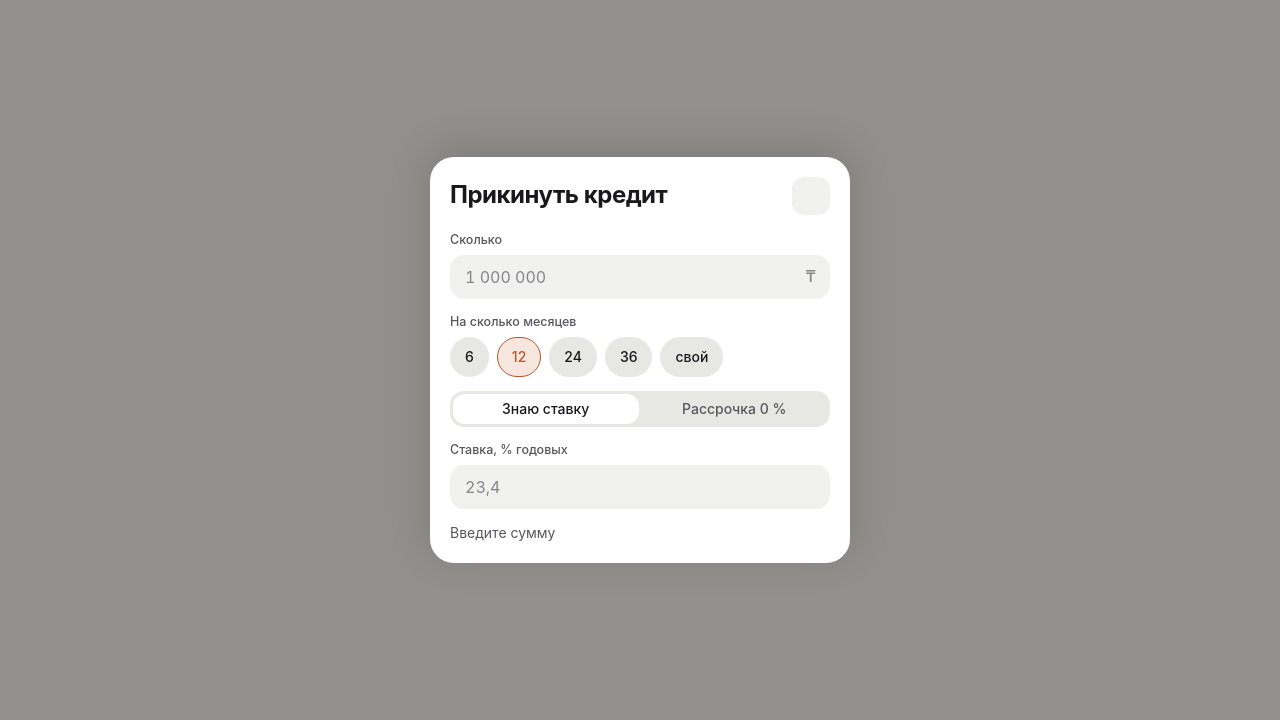
Test: PN-17: «Прикинуть кредит» › пустые поля — подсказка, результата нет
Type "1000000" into the field labelled "Сколько ₸" at (640, 277), box [450,255,830,299]
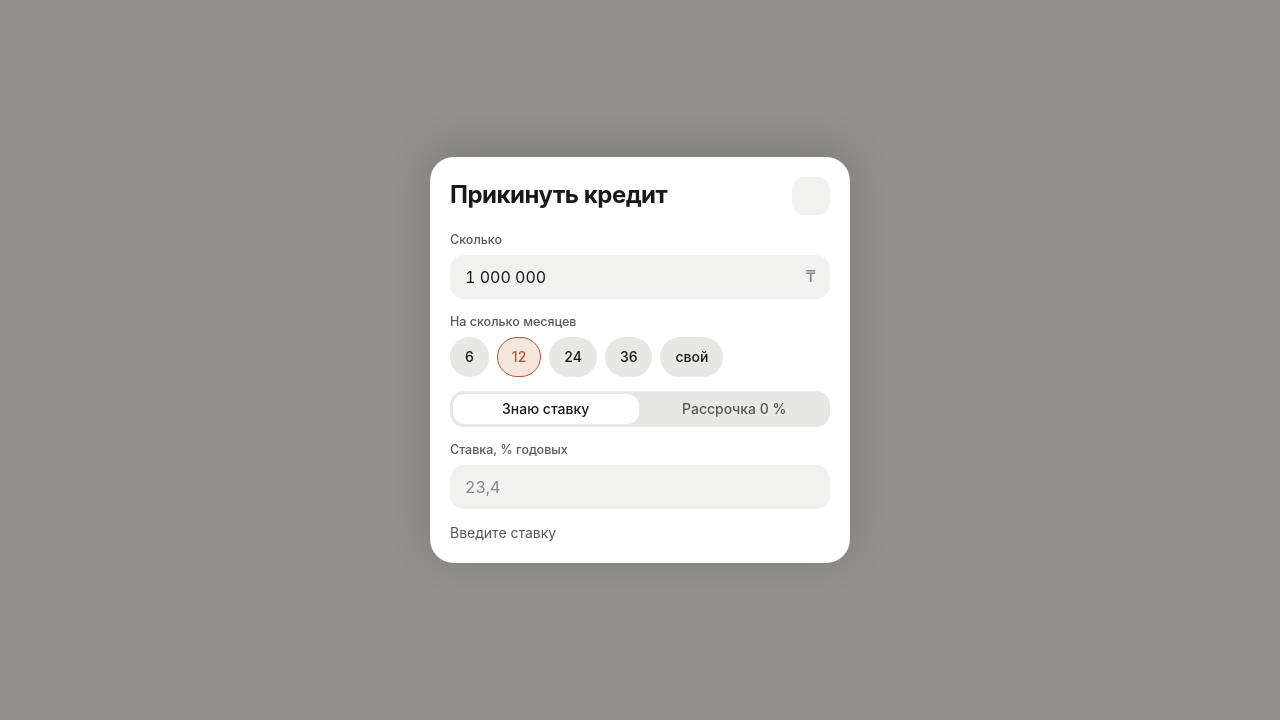
Result: the text "Введите ставку" is shown at [450,524,556,541]
Click the button "свой" at (692, 357), box [660,337,723,377]
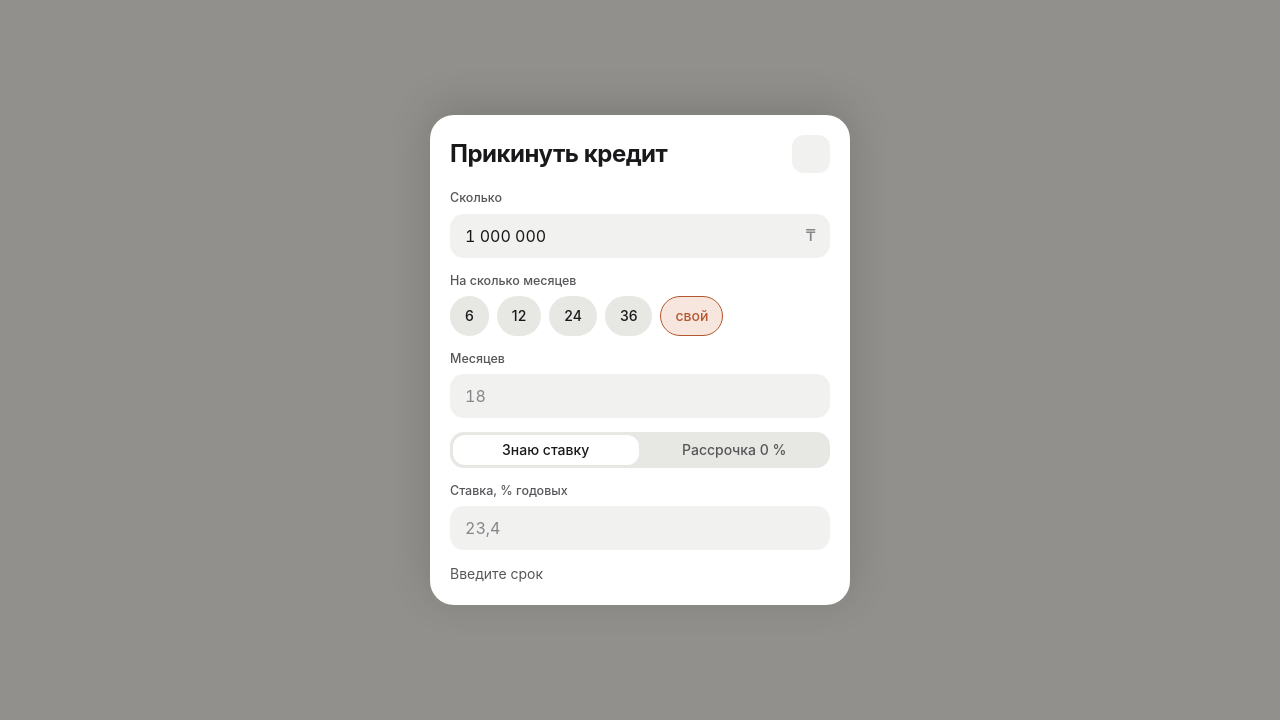
Result: the text "Введите срок" is shown at [450,565,543,582]
